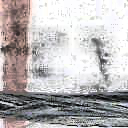crackTip: (1, 89, 128, 125)
